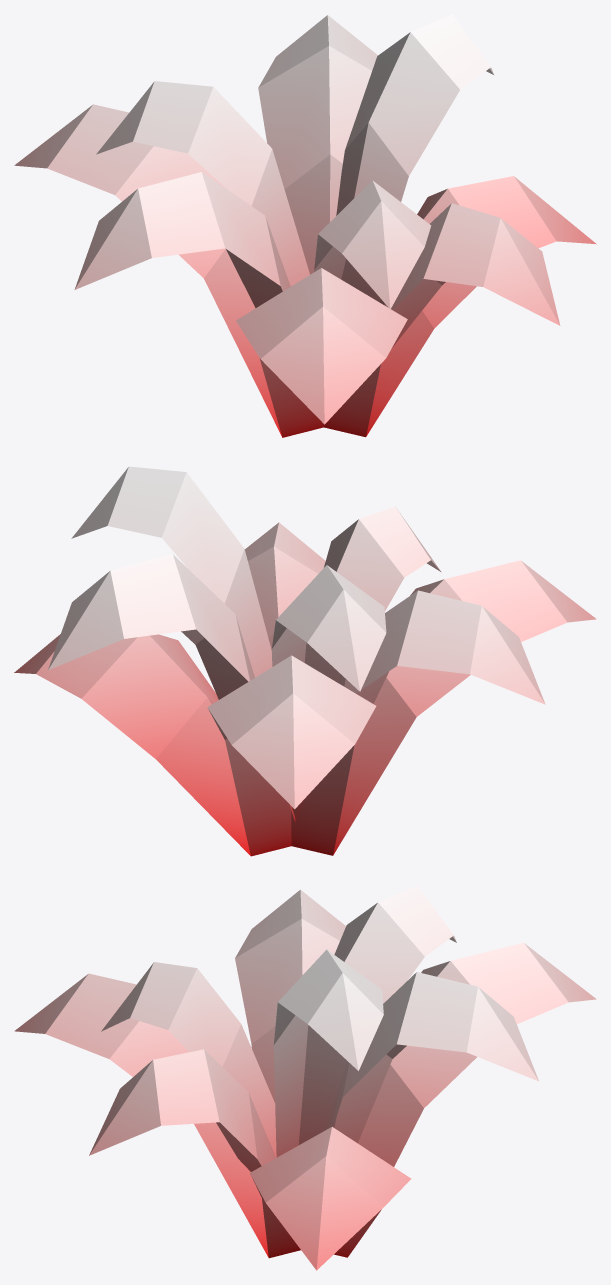
The model's file is synty-plant-fern-03.gltf.
3 renders of one model, top to bottom at view 1: azimuth 30°, elevation 25°; view 2: azimuth 150°, elevation 25°; view 3: azimuth 270°, elevation 25°, orthographic. The views are drawn at different scales.
Visible parts, largest first — view 1: SM_Plant_Fern_03; view 2: SM_Plant_Fern_03; view 3: SM_Plant_Fern_03.
Boxes of the visible parts, box(x1,y1,x2,y2) form: SM_Plant_Fern_03: box(14, 14, 596, 437); SM_Plant_Fern_03: box(14, 466, 596, 856); SM_Plant_Fern_03: box(14, 885, 596, 1270).
Bounding box in the file's own units: 0.6733 × 0.4409 × 0.6779.
Materials: 1 (1 with a texture image).
